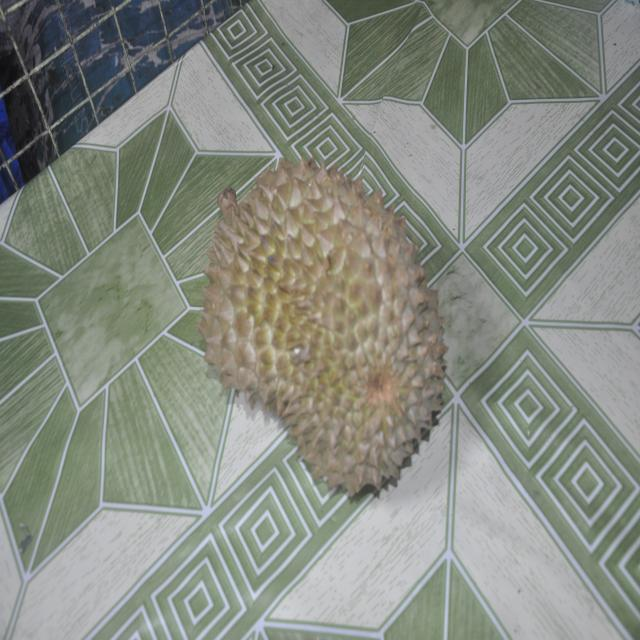mature: (160, 79, 478, 550)
